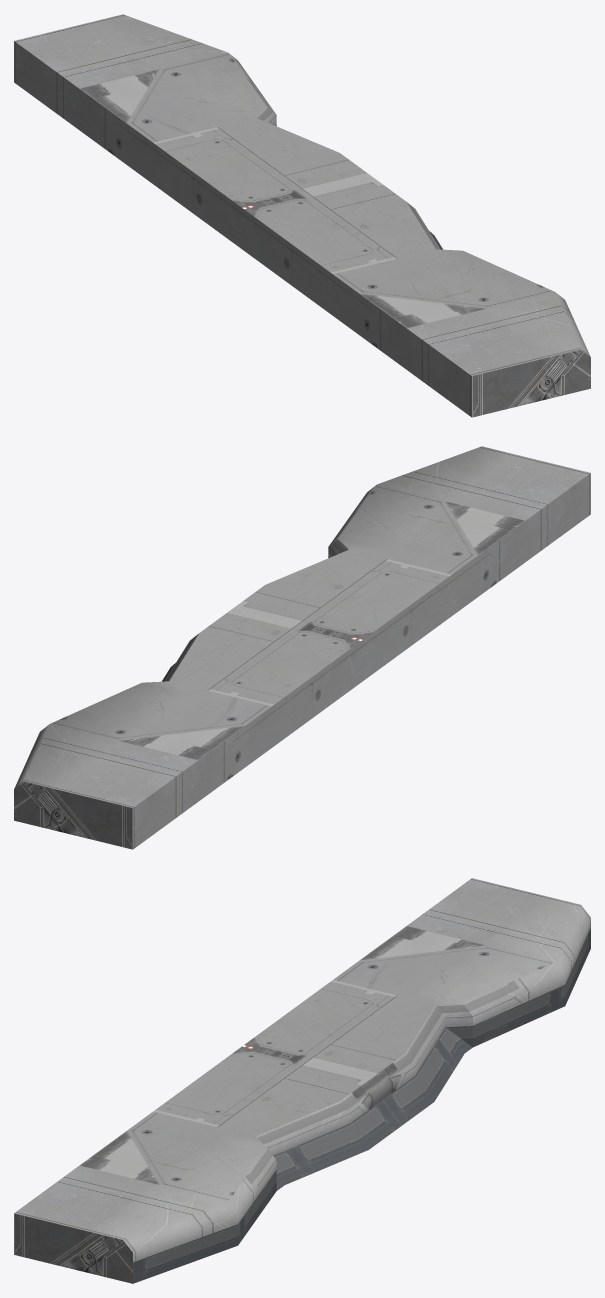
The model's file is SM_stairS2u.fbx.
3 views of the same model, one above another, from view 1: azimuth 30°, elevation 25°; view 2: azimuth 150°, elevation 25°; view 3: azimuth 330°, elevation 25° (orthographic).
Visible parts, largest first — view 1: SM_stairS2u_LOD0; view 2: SM_stairS2u_LOD0; view 3: SM_stairS2u_LOD0.
Part boxes in pixels (x1,y1,x2,y2): SM_stairS2u_LOD0: [14, 14, 590, 417]; SM_stairS2u_LOD0: [14, 446, 590, 849]; SM_stairS2u_LOD0: [14, 878, 590, 1283].
Bounding box in the file's own units: 40 × 200 × 10.
4 materials, 4 textured.
